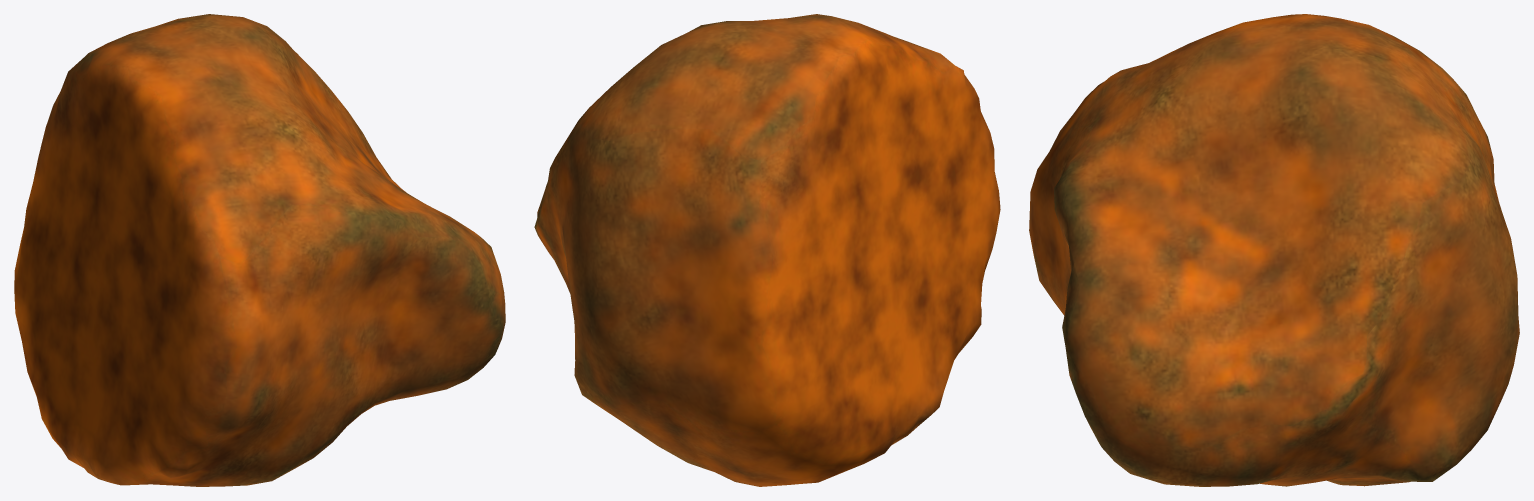
The model's file is amber.glb.
The picture shows the model from 3 angles, left to right: view 1: azimuth 30°, elevation 25°; view 2: azimuth 150°, elevation 25°; view 3: azimuth 270°, elevation 25°; orthographic projection. The views are drawn at different scales.
Size of the model in its own units: 87.92 by 99.67 by 97.25.
3 materials, 2 textured.
